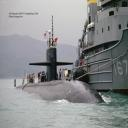submarine: (9, 16, 107, 103)
